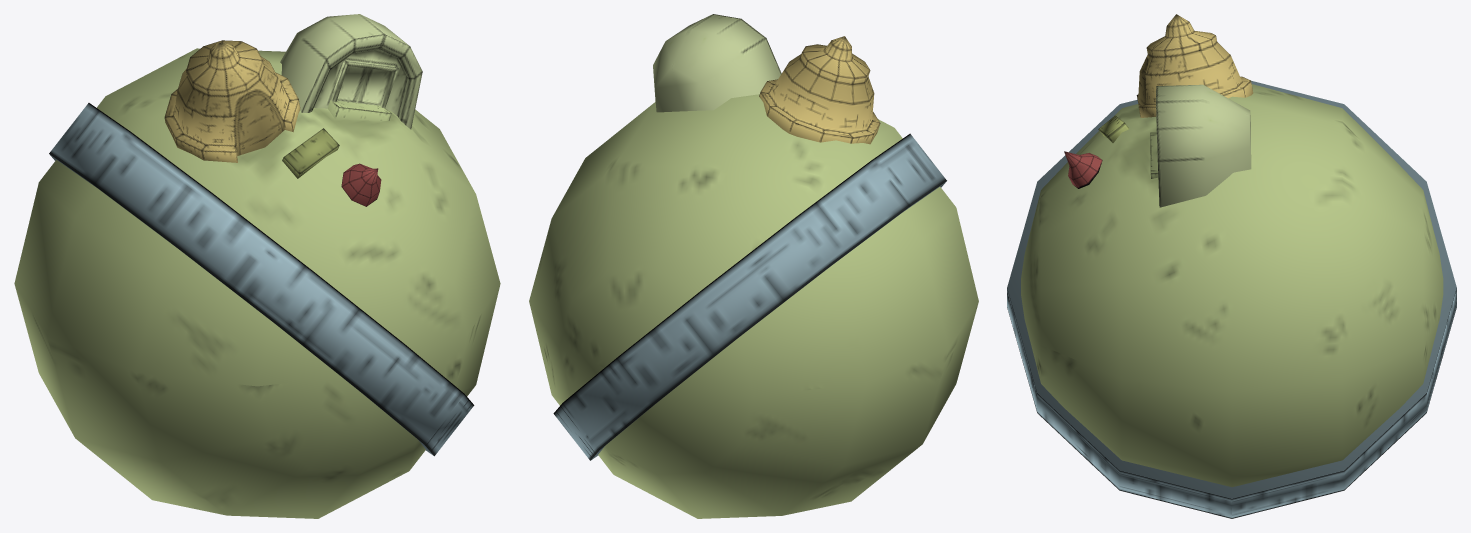
File: jianzhu_10_1.FBX
3 renders of one model, left to right at view 1: azimuth 30°, elevation 25°; view 2: azimuth 150°, elevation 25°; view 3: azimuth 270°, elevation 25°, orthographic. The views are drawn at different scales.
Parts seen in each view (by area): view 1: Object084; view 2: Object084; view 3: Object084.
Boxes of the visible parts, <box> form: Object084: <box>14,14,500,518</box>; Object084: <box>529,14,978,518</box>; Object084: <box>1007,14,1456,518</box>.
Size of the model in its own units: 361 by 410 by 368.
